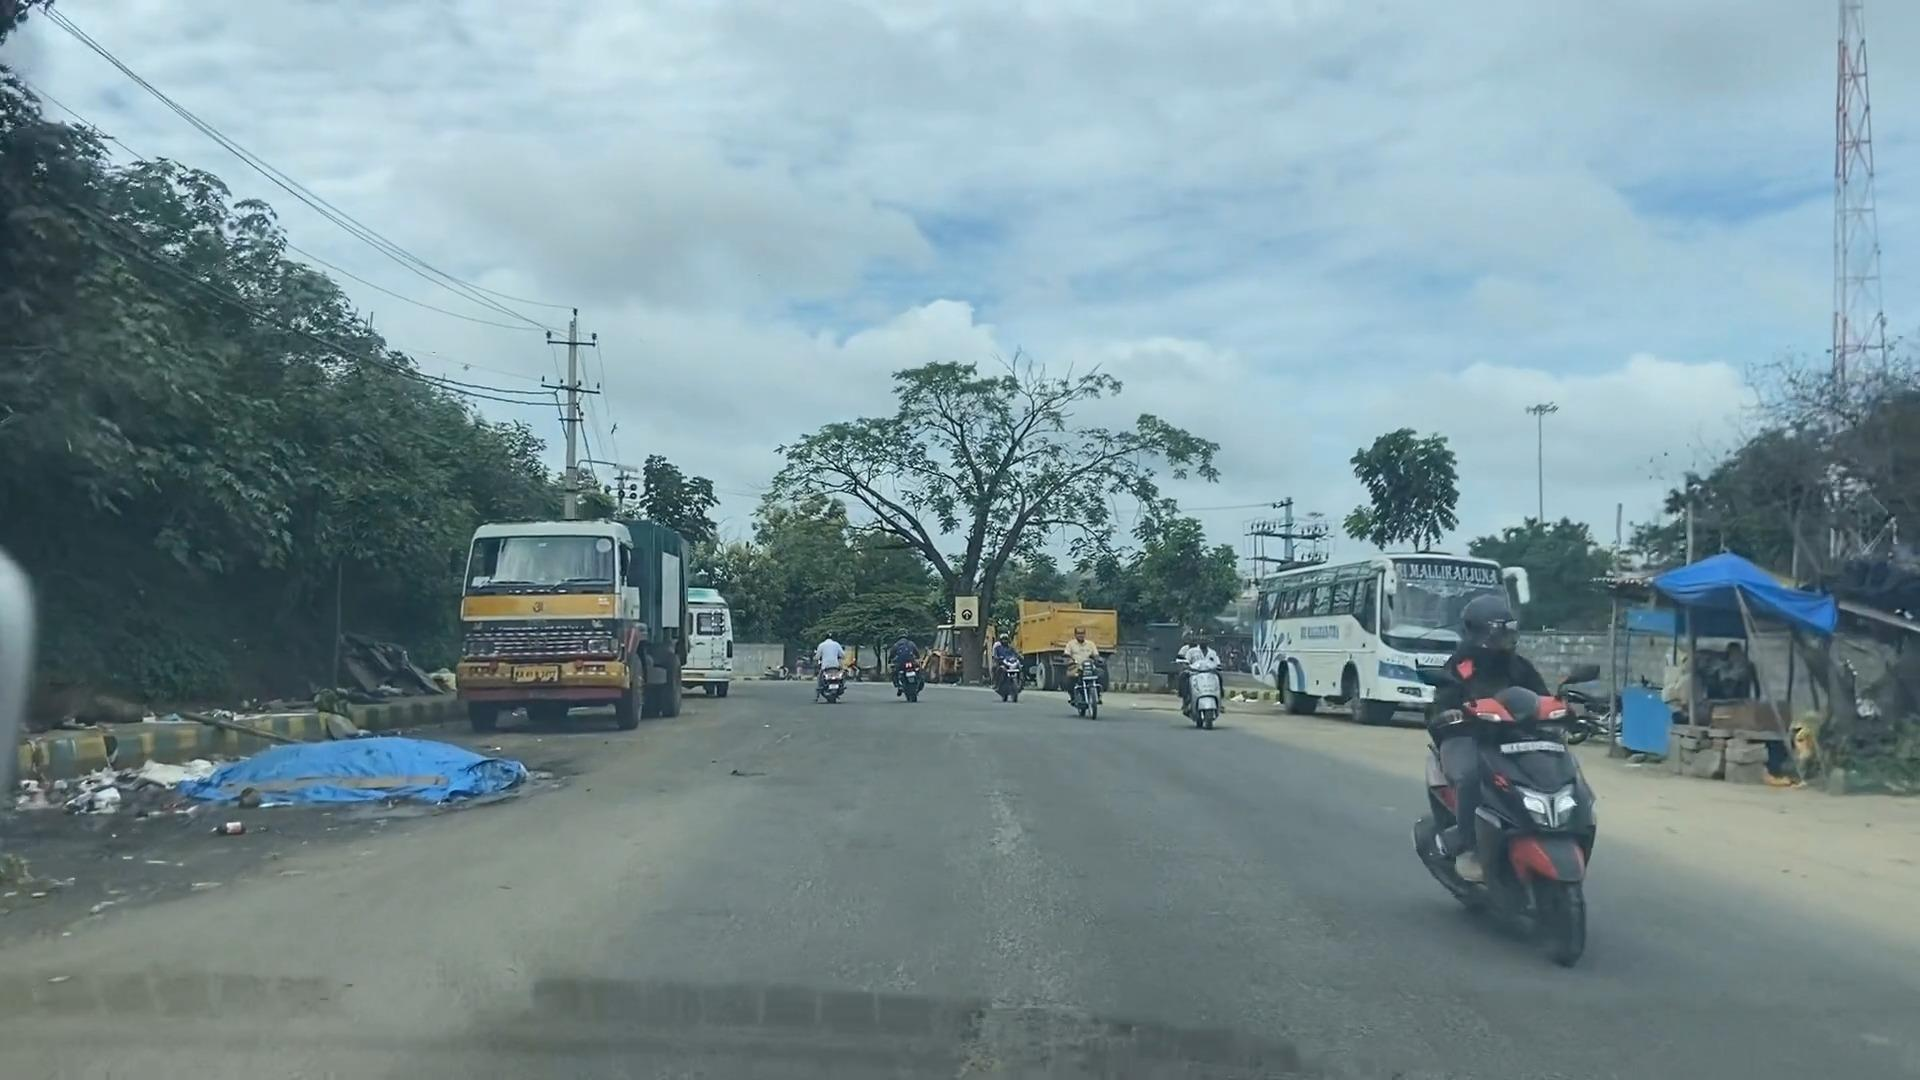HMV: (434, 514, 750, 742), (1224, 546, 1510, 725), (975, 587, 1114, 703)
LMV: (1416, 559, 1606, 998), (884, 583, 949, 746), (1162, 613, 1240, 750), (795, 603, 868, 737), (1047, 620, 1118, 737), (988, 624, 1029, 707)
RoadDamages: (911, 856, 1163, 1069)
